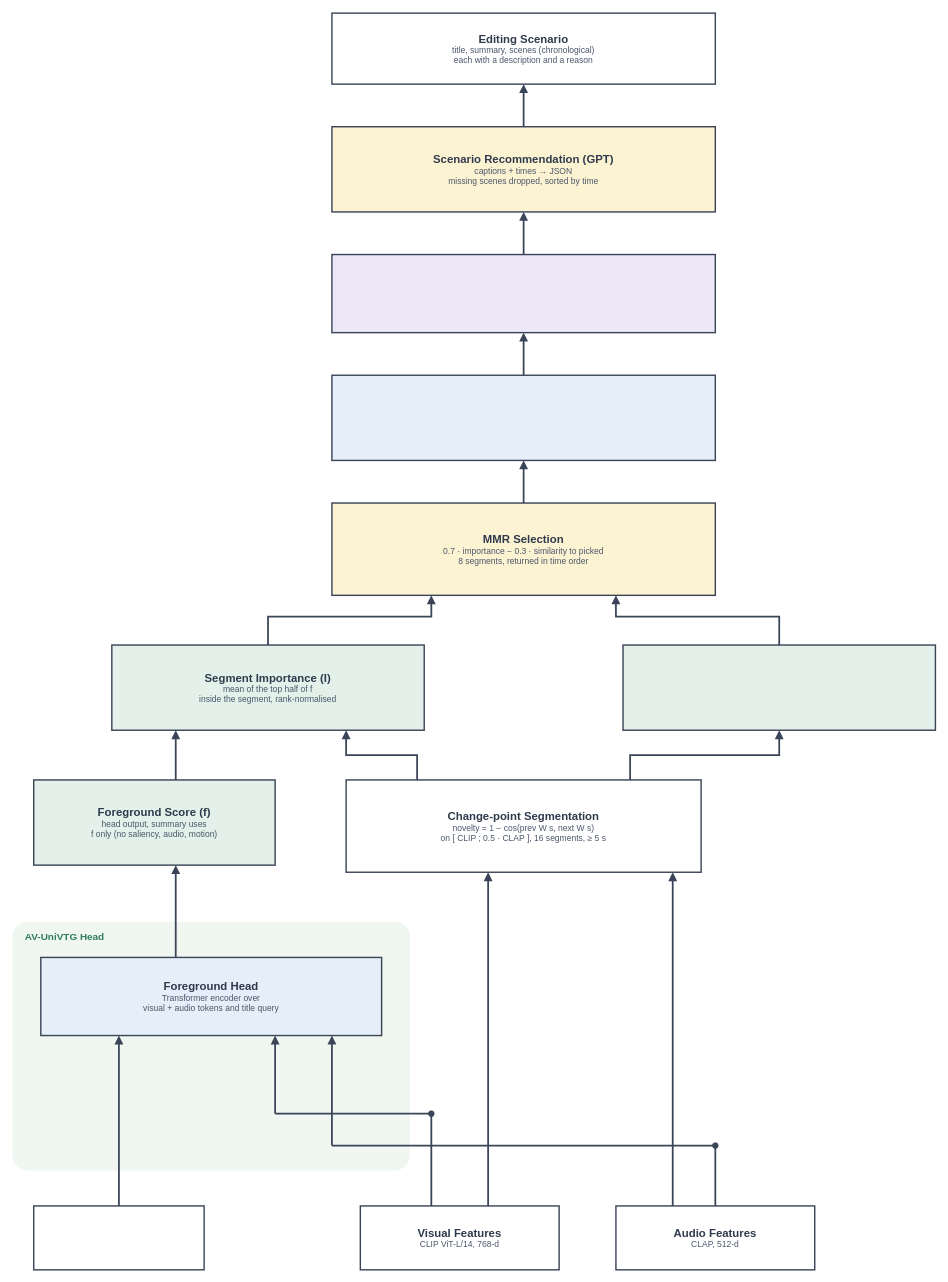
This 948x1282 diagram has some shape labels left out. Here are the shapes that lost their labels. From the top down, the centre of each, then its label:
(x=523, y=293): Segment Captions (GPT) what is visible in each segment, from its key frames
(x=523, y=417): Key Frames ≈ 1 per 8 s (2–5) + importance peak 1024 px, detail = high
(x=779, y=687): Segment Content Vector mean of [ CLIP ; 0.5 · CLAP ] inside the segment
(x=118, y=1237): Video Title file name → CLIP text
